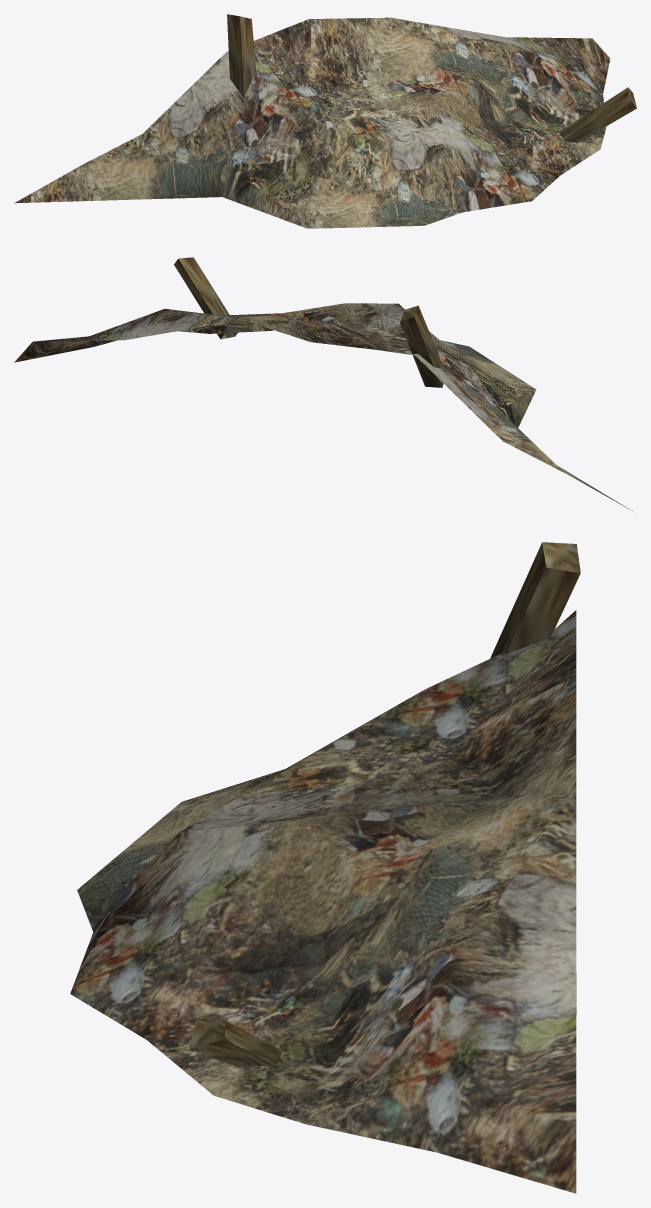
The model's file is Wtrsh1.glb.
3 renders of one model, top to bottom at view 1: azimuth 30°, elevation 25°; view 2: azimuth 150°, elevation 25°; view 3: azimuth 270°, elevation 25°, orthographic. The views are drawn at different scales.
Parts seen in each view (by area): view 1: _Wtrsh1; view 2: _Wtrsh1; view 3: _Wtrsh1.
Part boxes in pixels (<box>): _Wtrsh1: <box>14,14,636,228</box>; _Wtrsh1: <box>14,257,633,511</box>; _Wtrsh1: <box>70,542,580,1193</box>.
Bounding box in the file's own units: 5.31 × 1.22 × 1.97.
Materials: 1 (1 with a texture image).
